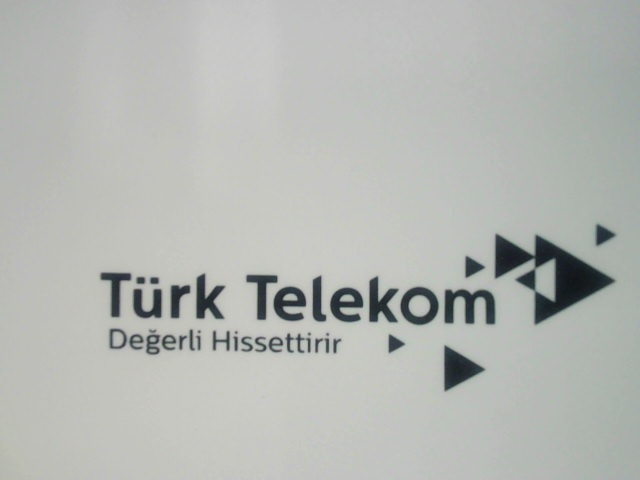AQ_TURKTelekom: (95, 224, 625, 386)
